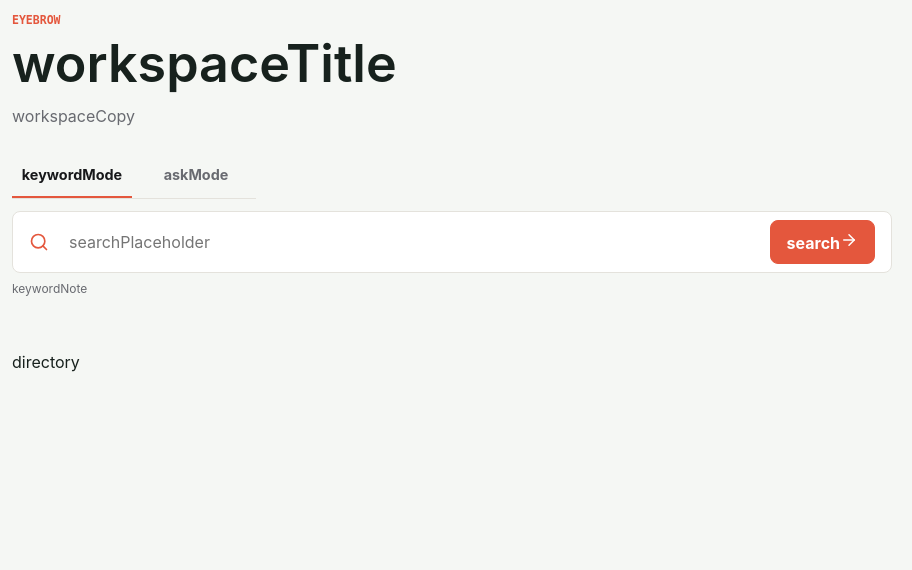
public discovery modes › fails closed when an ask success envelope contains malformed sources
Click the tab "askMode" at (196, 176), box [136,154,256,198]
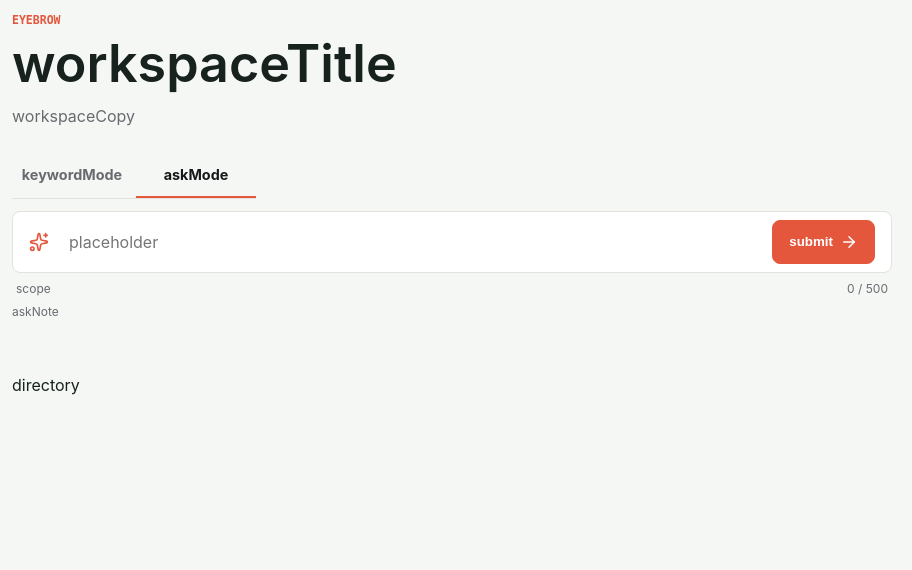
Type "question" into the field named "inputLabel" at (413, 242), box [61,220,764,264]
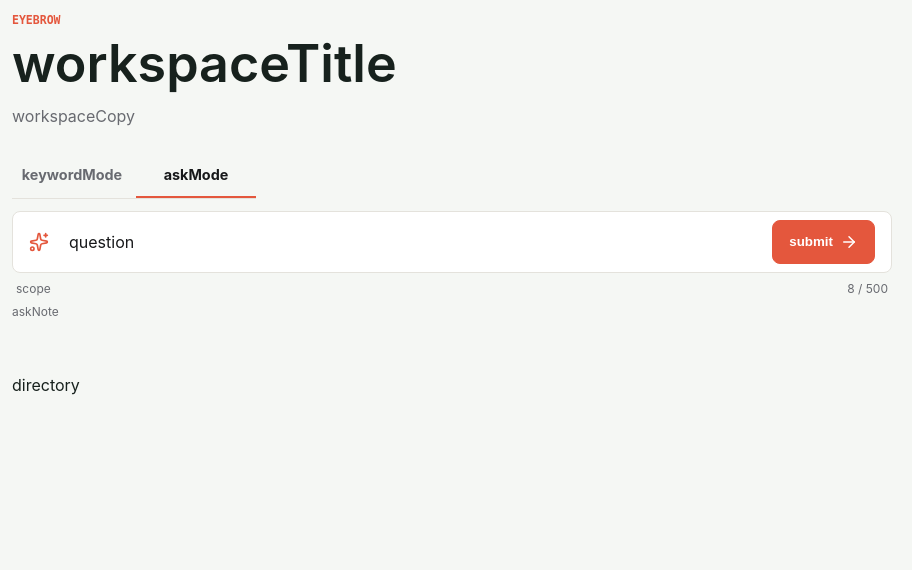
Submit the form named "regionLabel", box [12,211,892,273]
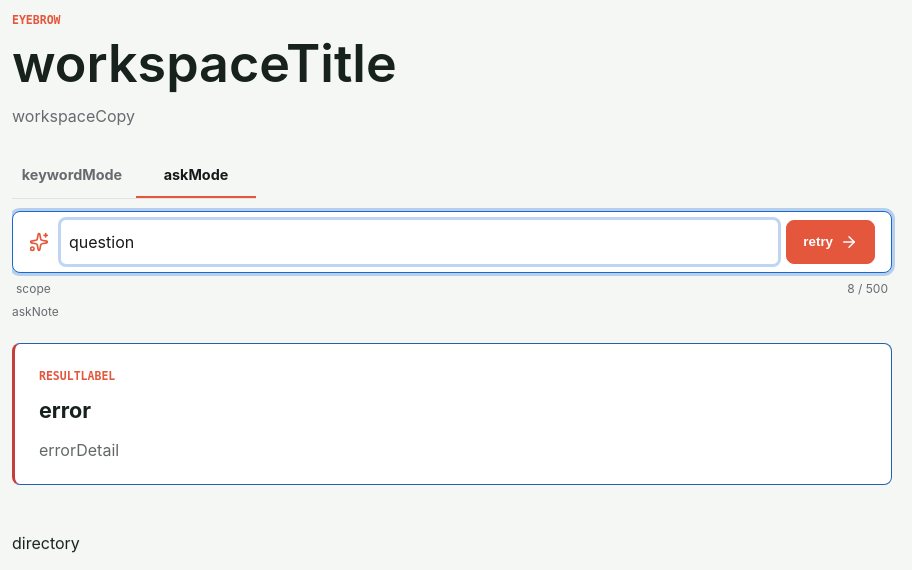
Now the heading "error" is shown, box [39,397,91,423]
